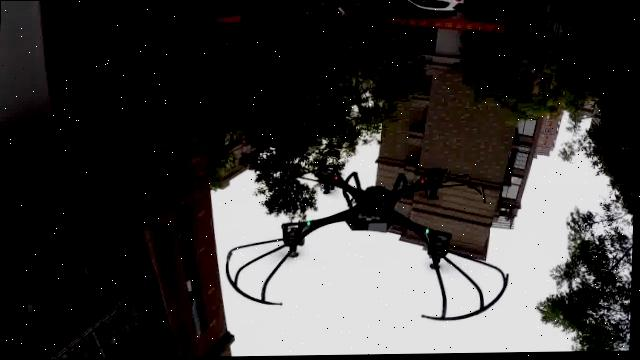drone: (216, 132, 515, 329)
